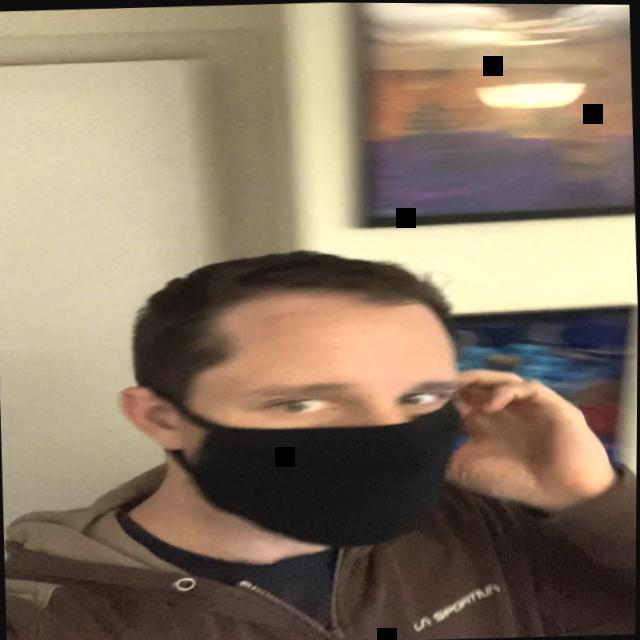Mask: (118, 272, 495, 568)
